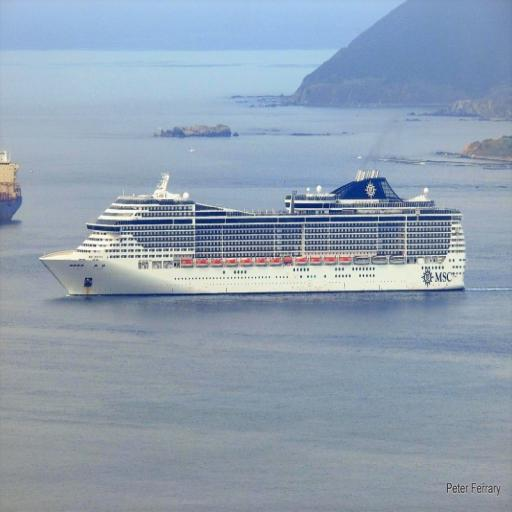cruises: (39, 169, 476, 305)
